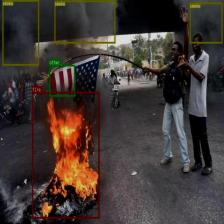fire: (32, 92, 99, 218)
smoke: (54, 0, 115, 44), (2, 0, 39, 65), (190, 3, 222, 43)
